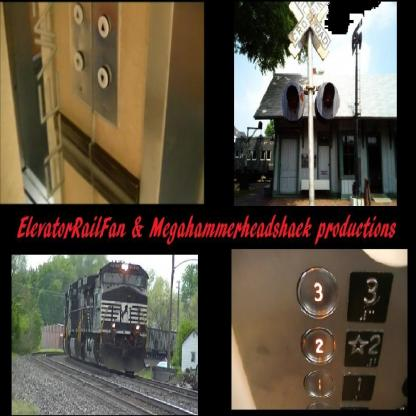1: (341, 374, 375, 402), (303, 369, 334, 398)
2: (300, 326, 336, 366)
3: (346, 271, 393, 322), (296, 265, 339, 319)
down: (96, 66, 108, 89), (73, 50, 83, 70)
s2: (344, 330, 383, 368)
up: (98, 14, 108, 38), (73, 3, 83, 23)
